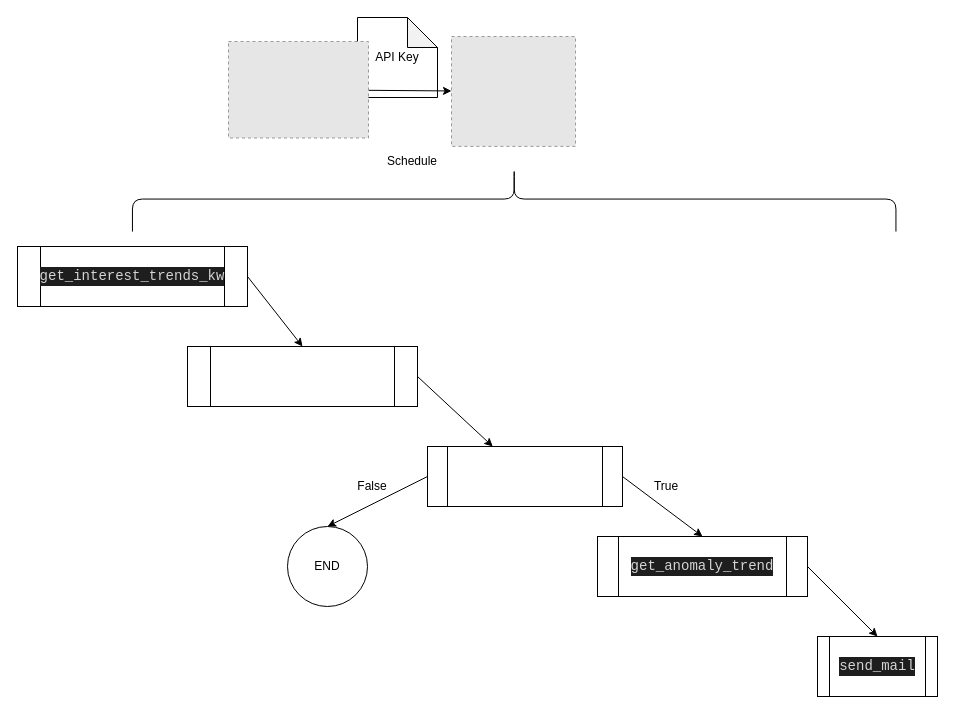
This 955x714 diagram has some shape labels left out. Grey dashed boxes stand in for pictures. Each missing label, with the centre of its shape:
"get_anomalous_records" goes at point 302,376.
"past_week_anomaly" goes at point 524,476.
